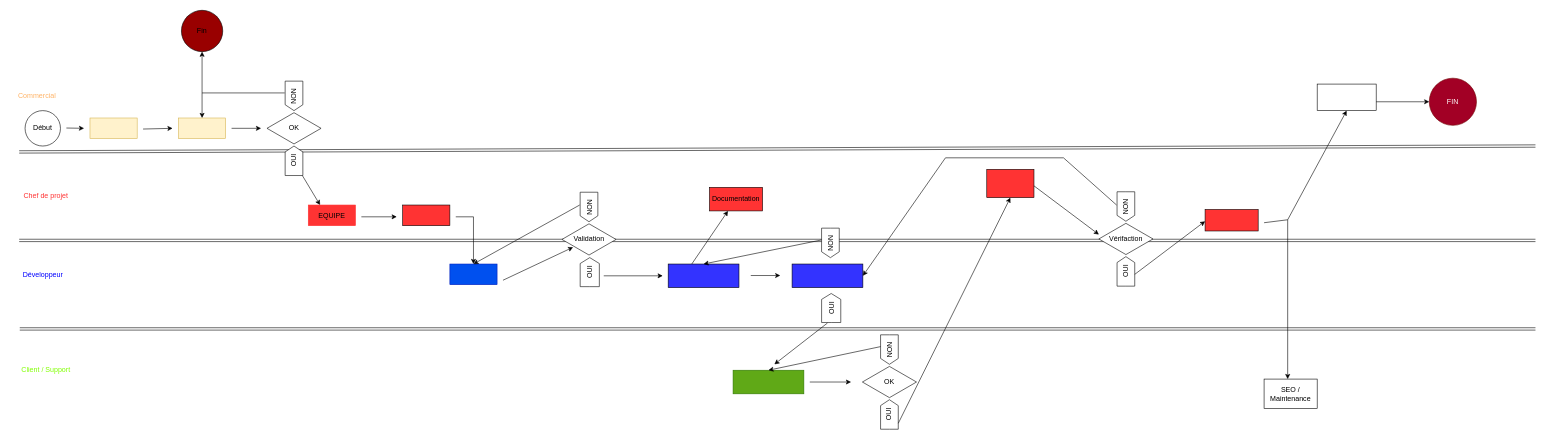
Image size: 1546x440. Some labels were removed from this diagram. The shapes that lost their labels are listed below. From the top down, each one's centre as x and y in pixels, then its label:
the point at 1346,97: Paiement
the point at 113,128: Demande Client
the point at 202,128: Proposition / Devis
the point at 1010,183: Mise en ligne local
the point at 426,215: Cahier des Charges
the point at 1231,220: Mise en ligne
the point at 473,274: UI/UX
the point at 703,275: Développement / Intégration
the point at 827,275: Phase de test
the point at 768,382: Hébergement
